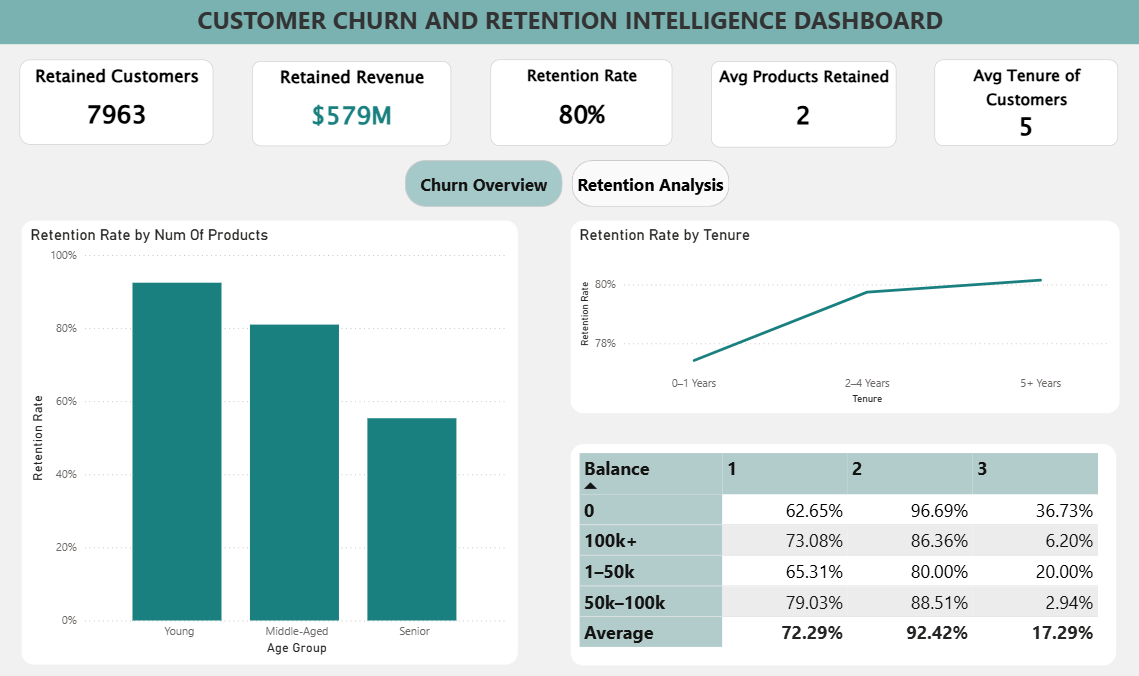

The page's visual inventory and layout, read from the dashboard file:
{"tool":"powerbi","page":{"name":"Retention Analysis","canvas":[1280,760],"ordinal":1},"visuals":[{"type":"card","title":"Retained Customers","fields":{"Values":["bank_churn churn_bank.High Risk Customers"]},"box":[28.3,67.9,215.7,94.5],"z":0},{"type":"lineChart","fields":{"Category":["bank_churn churn_bank.Tenure Bucket"],"Y":["bank_churn churn_bank.Retention Rate"]},"box":[639.6,247.2,611.3,215.1],"z":0},{"type":"card","title":"Retained Revenue","fields":{"Values":["bank_churn churn_bank.Retained Revenue"]},"box":[286.8,69.7,221.4,94.5],"z":1000},{"type":"columnChart","title":"Retention Rate by Num Of Products","fields":{"Y":["bank_churn churn_bank.Retention Rate"],"Category":["bank_churn churn_bank.Age Group"]},"box":[30.2,247.2,552.8,494.3],"z":1000},{"type":"card","title":"Retention Rate","fields":{"Values":["bank_churn churn_bank.Retention Rate"]},"box":[551.1,67.9,202.2,96.3],"z":2000},{"type":"pivotTable","fields":{"Rows":["bank_churn churn_bank.Balance Bucket"],"Columns":["bank_churn churn_bank.NumOfProducts"],"Values":["bank_churn churn_bank.Retention Rate"]},"box":[639.6,494.3,607.5,247.2],"z":2000},{"type":"card","title":"Avg Products Retained","fields":{"Values":["bank_churn churn_bank.Avg Products Retained"]},"box":[796.1,69.7,206,96.3],"z":3000},{"type":"textbox","box":[0,0,1280.5,51.4],"z":4000},{"type":"pageNavigator","box":[457,179.2,360,52],"z":4002},{"type":"card","title":"Avg Tenure of Customers","fields":{"Values":["Avg(bank_churn churn_bank.Tenure)"]},"box":[1045,67.9,204.1,96.3],"z":6001}]}

Visuals, with their boxes in screenshot pixels (x1, y1, x2, y2), scaled from the page's 1280x760 canvas onto the 1139x676 screenshot:
"Retained Customers" card: x1=25 y1=60 x2=217 y2=144
lineChart - bank_churn churn_bank.Tenure Bucket x bank_churn churn_bank.Retention Rate: x1=569 y1=220 x2=1113 y2=411
"Retained Revenue" card: x1=255 y1=62 x2=452 y2=146
"Retention Rate by Num Of Products" columnChart: x1=27 y1=220 x2=519 y2=660
"Retention Rate" card: x1=490 y1=60 x2=670 y2=146
pivotTable - bank_churn churn_bank.Balance Bucket x bank_churn churn_bank.NumOfProducts: x1=569 y1=440 x2=1110 y2=660
"Avg Products Retained" card: x1=708 y1=62 x2=892 y2=148
textbox: x1=0 y1=0 x2=1138 y2=46
pageNavigator: x1=407 y1=159 x2=727 y2=206
"Avg Tenure of Customers" card: x1=930 y1=60 x2=1112 y2=146
